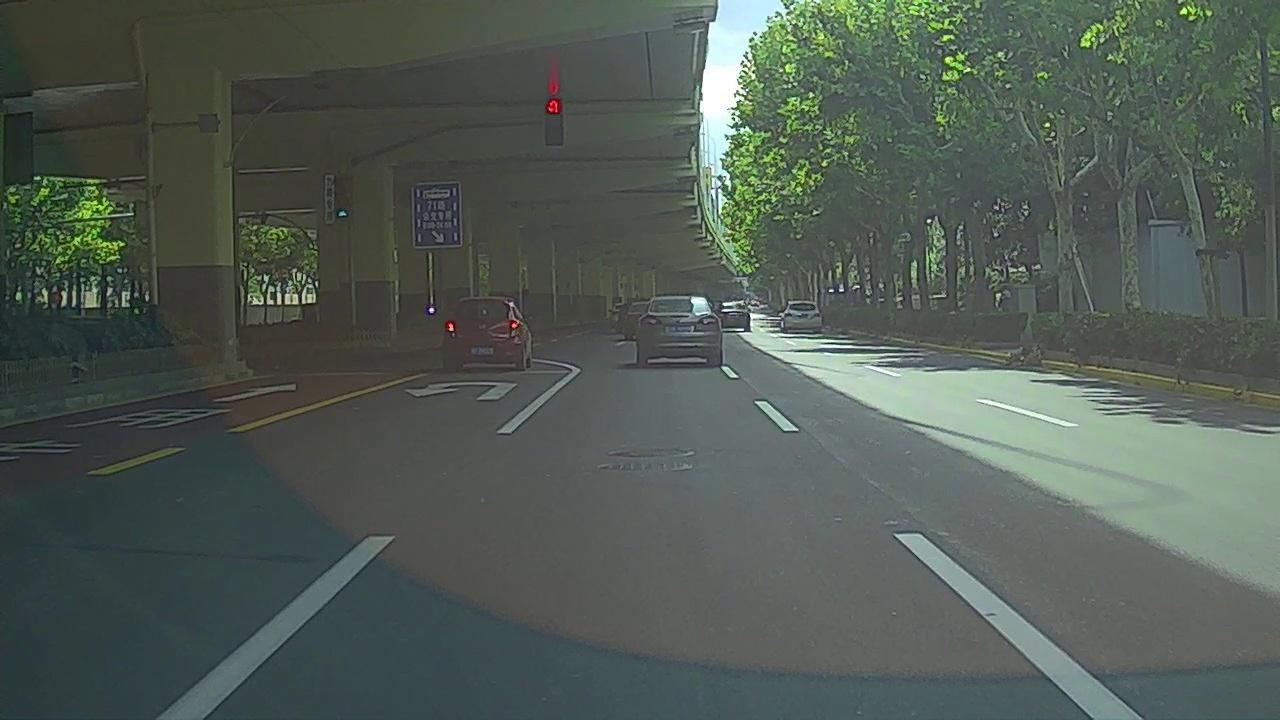traffic_light: (547, 100, 563, 145)
